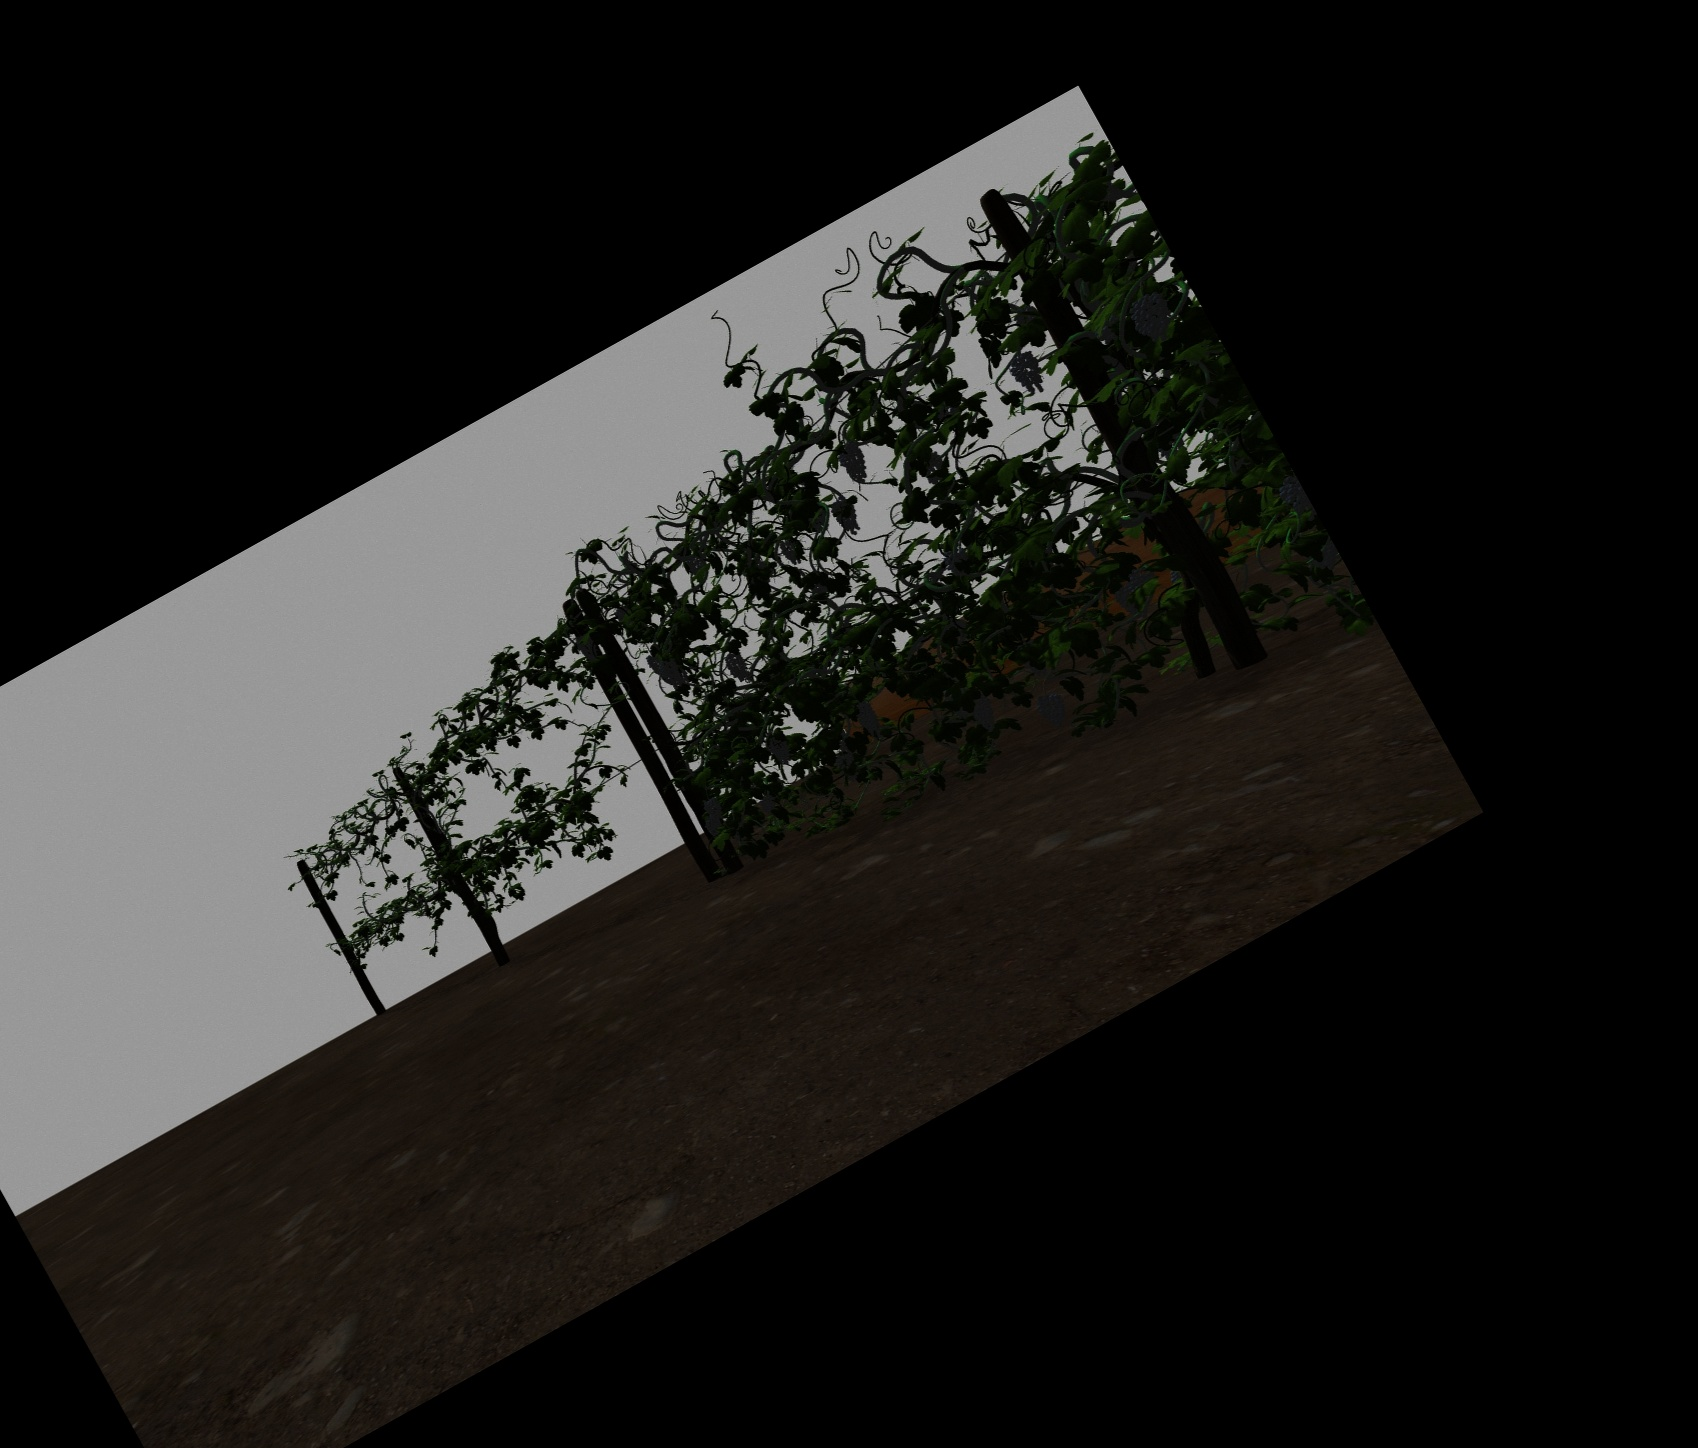grape: (1135, 294, 1169, 340), (1016, 353, 1041, 394), (1039, 692, 1067, 728), (654, 649, 678, 690), (843, 442, 868, 483), (859, 701, 881, 738), (1281, 478, 1302, 514), (973, 697, 994, 730), (835, 500, 856, 533), (1313, 547, 1337, 573), (947, 552, 970, 575), (1128, 569, 1154, 588), (728, 652, 746, 679), (771, 735, 789, 763), (579, 635, 596, 661), (783, 539, 799, 565), (707, 814, 723, 839), (1118, 588, 1133, 612), (758, 797, 777, 816), (705, 799, 721, 820), (835, 751, 853, 769)
